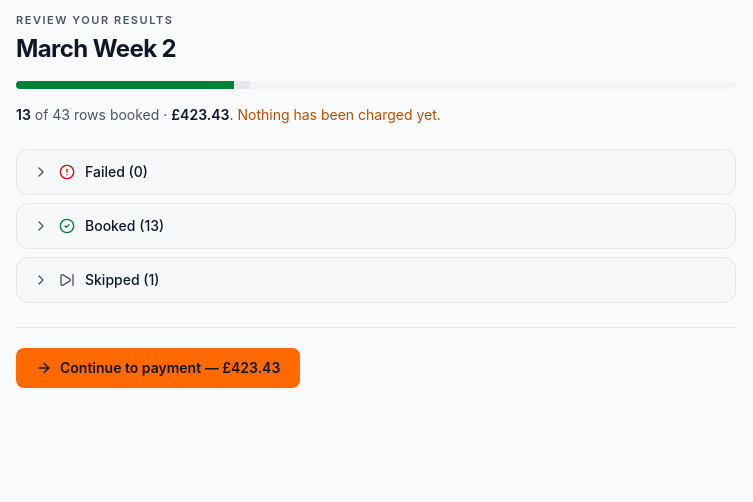
Test: a skipped row names the booking it matched
Click the button "Skipped (1)".
click(112, 279)  # box [17,258,735,302]
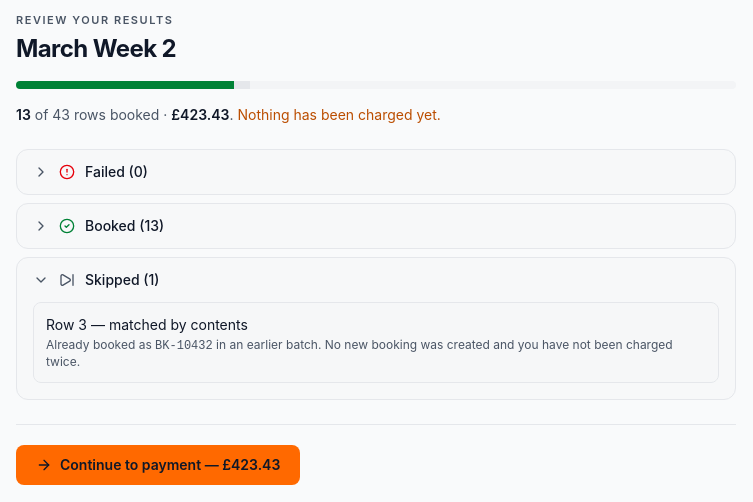
Now the text "BK-10432" is shown, box [155,338,213,352]
Now the text "not been charged twice" is shown, box [46,336,673,368]
